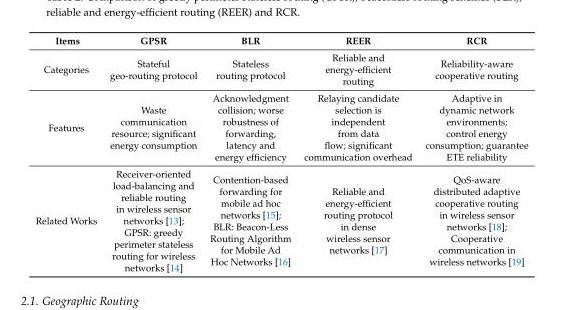table: (34, 34, 527, 272)
table column: (296, 34, 418, 272), (418, 34, 527, 272), (102, 34, 202, 272), (202, 34, 296, 272), (34, 34, 102, 272)
table column header: (34, 34, 527, 48)
table row: (34, 164, 527, 272), (34, 89, 527, 164), (34, 48, 527, 89), (34, 34, 527, 48)
